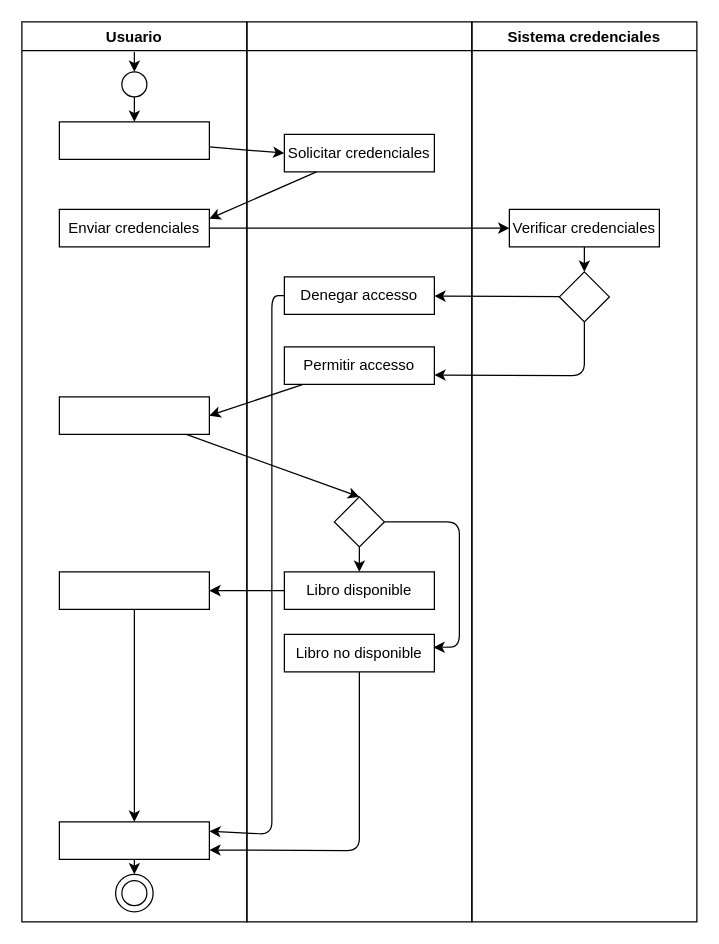
The diagram is 719 pixels wide and 944 high, and some of its shapes have lost their labels. Here are the shapes that lost their labels. From the top down, the box of each, then its label:
(58, 121, 209, 159): Acceder al catalogo
(58, 396, 209, 434): Buscar libro
(246, 21, 472, 922): Catalago
(58, 571, 209, 609): Prestar libro
(58, 821, 209, 859): Finalizar session
